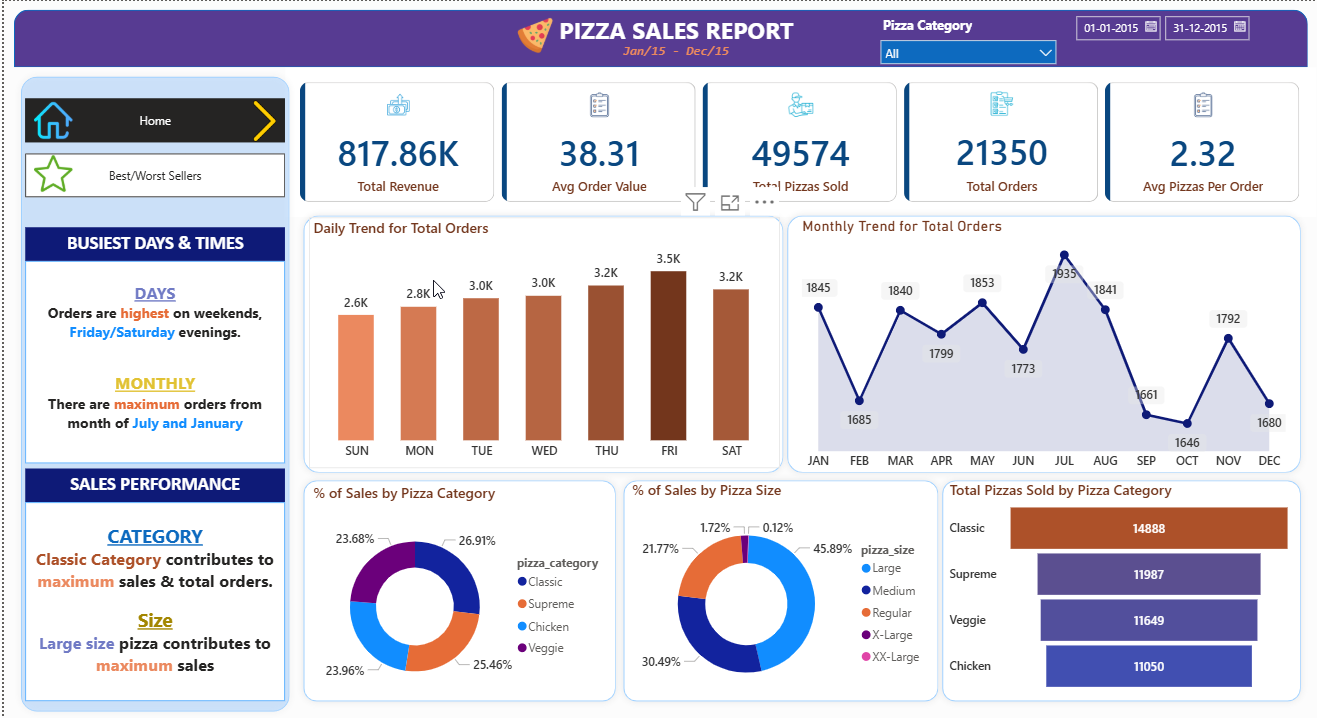

This screenshot's page, from the dashboard's own definition file:
{"tool":"powerbi","page":{"name":"Home","canvas":[1500,820],"ordinal":0},"visuals":[{"type":"cardVisual","fields":{"Data":["pizzasalesanalysis pizza_sales.Total Revenue","pizzasalesanalysis pizza_sales.Avg Order Value","pizzasalesanalysis pizza_sales.Total Pizzas Sold","pizzasalesanalysis pizza_sales.Total Orders","pizzasalesanalysis pizza_sales.Ang Pizzas Per Order"]},"box":[321.4,75.7,1178.6,171.4],"z":0},{"type":"shape","box":[11.4,10,1478.6,65.7],"z":1000},{"type":"textbox","box":[615.7,10,305.7,50],"z":2000},{"type":"textbox","box":[677.1,42.9,181.4,35.7],"z":3000},{"type":"image","box":[574.3,18.6,65.7,41.4],"z":4000},{"type":"shape","box":[334.3,237.1,564.3,310],"z":5000},{"type":"columnChart","title":"Daily Trend for Total Orders","fields":{"Category":["pizzasalesanalysis pizza_sales.Order Day"],"Y":["pizzasalesanalysis pizza_sales.Total Orders"]},"box":[348.6,247.1,538.6,287.1],"z":6000},{"type":"shape","box":[887.1,237.1,602.9,310],"z":7000},{"type":"areaChart","title":"Monthly Trend for Total Orders","fields":{"Category":["pizzasalesanalysis pizza_sales.Order Month"],"Y":["pizzasalesanalysis pizza_sales.Total Orders"]},"box":[907.1,247.1,562.9,298.6],"z":8000},{"type":"shape","box":[334.3,540,372.9,268.6],"z":9000},{"type":"shape","box":[700,540,375.7,268.6],"z":10000},{"type":"shape","box":[1064.3,540,425.7,268.6],"z":11000},{"type":"shape","box":[11.4,78.6,322.9,741.4],"z":11500},{"type":"donutChart","title":"% of Sales by Pizza Category","fields":{"Category":["pizzasalesanalysis pizza_sales.pizza_category"],"Y":["pizzasalesanalysis pizza_sales.Total Revenue"]},"box":[348.6,550,351.4,262.9],"z":12000},{"type":"donutChart","title":"% of Sales by Pizza Size","fields":{"Y":["pizzasalesanalysis pizza_sales.Total Revenue"],"Category":["pizzasalesanalysis pizza_sales.pizza_size"]},"box":[712.9,547.1,351.4,262.9],"z":14000},{"type":"funnel","title":"Total Pizzas Sold by Pizza Category","fields":{"Category":["pizzasalesanalysis pizza_sales.pizza_category"],"Y":["pizzasalesanalysis pizza_sales.Total Pizzas Sold"]},"box":[1075.7,547.1,401.4,247.1],"z":15000},{"type":"textbox","box":[24.3,258.6,297.1,38.6],"z":16000},{"type":"textbox","box":[24.3,297.1,297.1,231.4],"z":17000},{"type":"textbox","box":[24.3,534.3,297.1,38.6],"z":18000},{"type":"textbox","box":[24.3,572.9,297.1,227.1],"z":19000},{"type":"slicer","fields":{"Values":["pizzasalesanalysis pizza_sales.pizza_category"]},"box":[991.4,12.9,221.4,65.7],"z":20000},{"type":"slicer","fields":{"Values":["pizzasalesanalysis pizza_sales.order_date"]},"box":[1212.9,7.1,221.4,68.6],"z":21000},{"type":"pageNavigator","box":[24.3,111.4,297.1,50],"z":21001},{"type":"pageNavigator","box":[24.3,174.3,297.1,50],"z":21002},{"type":"image","box":[274.3,100,47.1,74.3],"z":21003},{"type":"image","box":[34.3,92.9,44.3,87.1],"z":21004},{"type":"image","box":[34.3,147.1,44.3,100],"z":21005}]}

Visuals, with their boxes in screenshot pixels (x1, y1, x2, y2), scaled from the page's 1500x820 canvas onto the 1317x718 screenshot:
cardVisual - pizzasalesanalysis pizza_sales.Total Revenue x pizzasalesanalysis pizza_sales.Avg Order Value: detection(282, 66, 1316, 216)
shape: detection(10, 9, 1308, 66)
textbox: detection(541, 9, 809, 53)
textbox: detection(594, 38, 754, 69)
image: detection(504, 16, 562, 53)
shape: detection(294, 208, 789, 479)
"Daily Trend for Total Orders" columnChart: detection(306, 216, 779, 468)
shape: detection(779, 208, 1308, 479)
"Monthly Trend for Total Orders" areaChart: detection(796, 216, 1291, 478)
shape: detection(294, 473, 621, 708)
shape: detection(615, 473, 944, 708)
shape: detection(934, 473, 1308, 708)
shape: detection(10, 69, 294, 717)
"% of Sales by Pizza Category" donutChart: detection(306, 482, 615, 712)
"% of Sales by Pizza Size" donutChart: detection(626, 479, 934, 709)
"Total Pizzas Sold by Pizza Category" funnel: detection(944, 479, 1297, 695)
textbox: detection(21, 226, 282, 260)
textbox: detection(21, 260, 282, 463)
textbox: detection(21, 468, 282, 502)
textbox: detection(21, 502, 282, 700)
slicer - pizzasalesanalysis pizza_sales.pizza_category: detection(870, 11, 1065, 69)
slicer - pizzasalesanalysis pizza_sales.order_date: detection(1065, 6, 1259, 66)
pageNavigator: detection(21, 98, 282, 141)
pageNavigator: detection(21, 153, 282, 196)
image: detection(241, 88, 282, 153)
image: detection(30, 81, 69, 158)
image: detection(30, 129, 69, 216)
